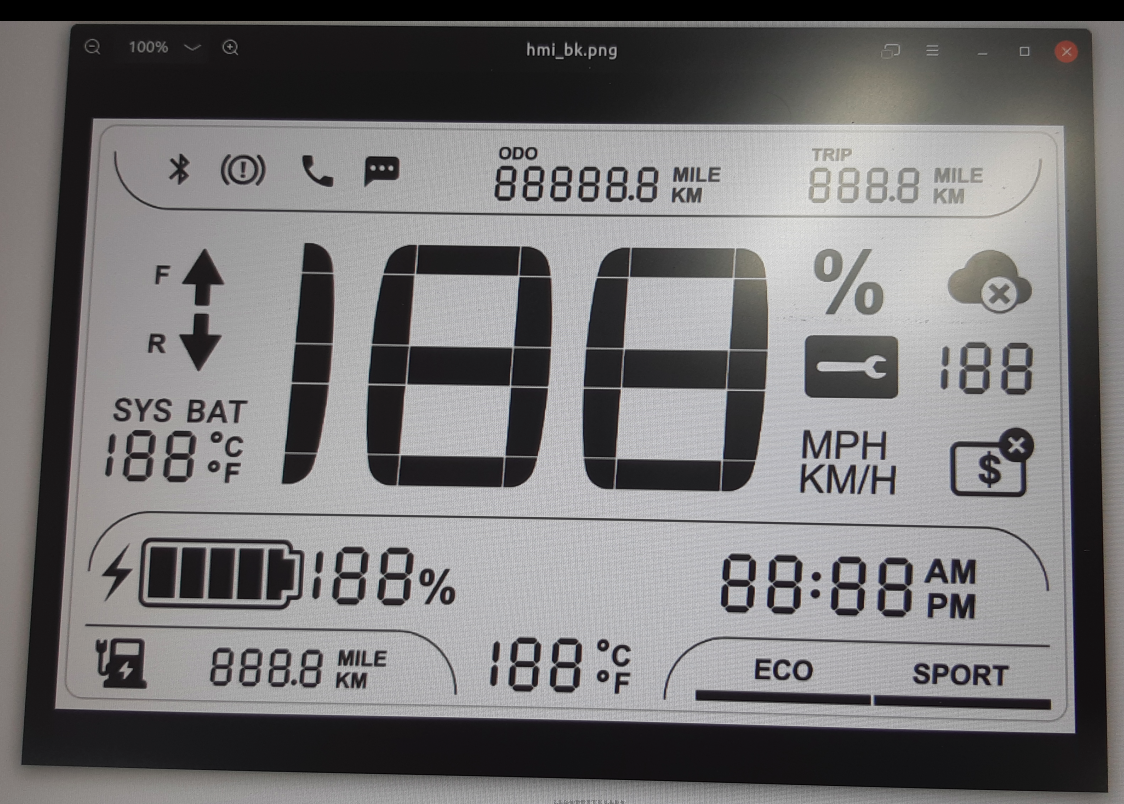bluetooth_on: (165, 150, 195, 188)
braking_on: (216, 150, 270, 187)
calling_on: (298, 150, 340, 189)
connection_lost: (944, 246, 1038, 319)
error_code: (800, 331, 904, 403)
low_battery: (90, 631, 153, 694)
sms_on: (359, 151, 404, 191)
vin_id: (945, 423, 1039, 500)
